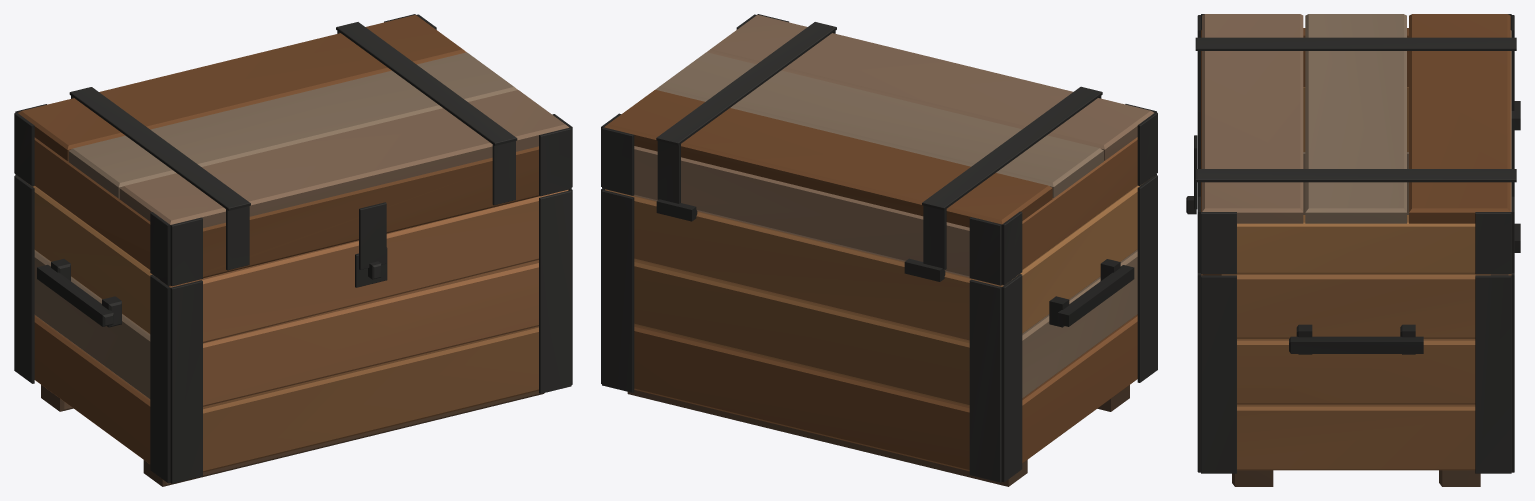
File: wooden_loot_crate_01.glb
3 views of the same model, side by side, from view 1: azimuth 30°, elevation 25°; view 2: azimuth 150°, elevation 25°; view 3: azimuth 270°, elevation 25° (orthographic).
Visible parts, largest first — view 1: crate_body, crate_lid, crate_body_metal, crate_lid_metal; view 2: crate_body, crate_lid, crate_body_metal, crate_lid_metal; view 3: crate_lid, crate_body, crate_body_metal, crate_lid_metal.
Boxes of the visible parts, x1,y1,x2,y2 form: crate_body: (29,184,568,486); crate_lid: (18,15,569,286); crate_body_metal: (14,174,572,483); crate_lid_metal: (14,14,572,286); crate_body: (605,183,1143,486); crate_lid: (604,15,1154,285); crate_body_metal: (601,174,1157,482); crate_lid_metal: (601,14,1157,285); crate_lid: (1201,14,1511,275); crate_body: (1201,87,1511,486); crate_body_metal: (1186,112,1514,473); crate_lid_metal: (1194,14,1520,274).
Bounding box in the file's own units: 1 × 0.606 × 0.6455.
